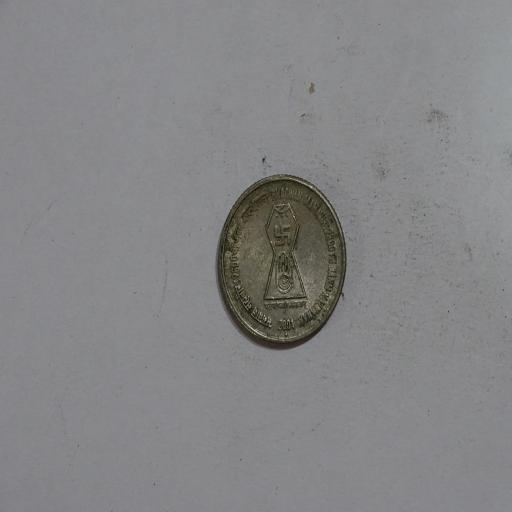rupee5: (216, 173, 349, 347)
